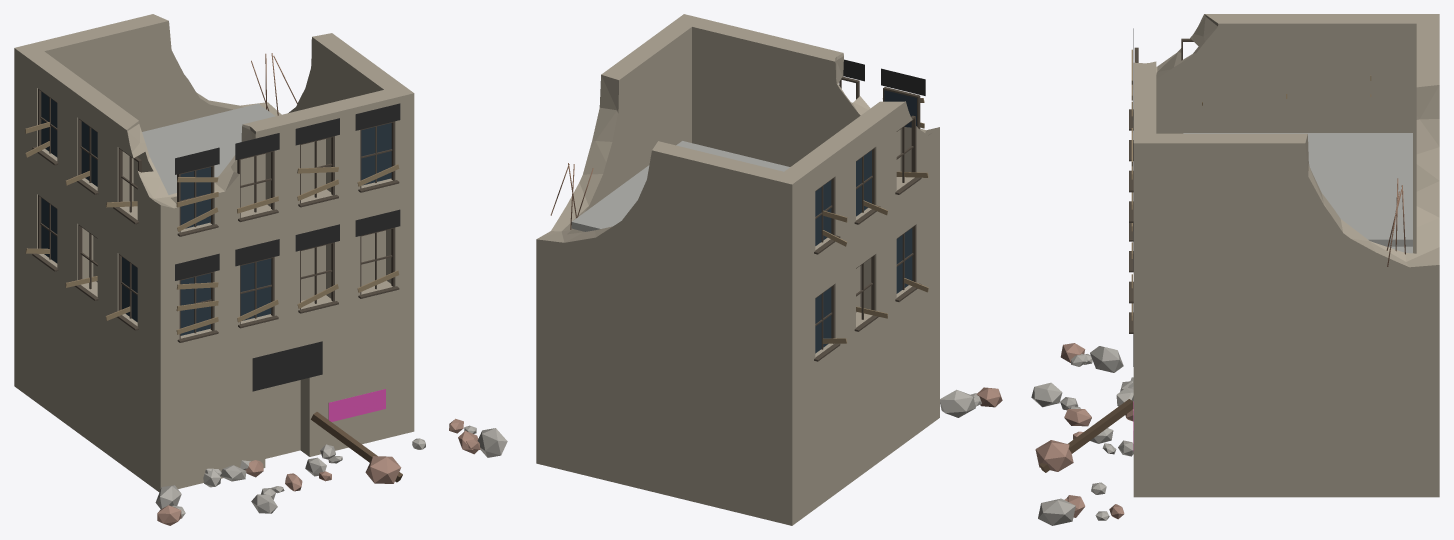
File: bld_ruin.glb
3 renders of one model, left to right at view 1: azimuth 30°, elevation 25°; view 2: azimuth 150°, elevation 25°; view 3: azimuth 270°, elevation 25°, orthographic. The views are drawn at different scales.
Visible parts, largest first — view 1: wall, floor_slab.001, soot_door, glass.002, glass.003, glass, glass.001, graffiti, beam, glass.005, glass.006, soot.007 (+11 smaller); view 2: wall, floor_slab.001, glass.004, glass.006, soot.001, glass.007, rubble.008, glass.005; view 3: wall, floor_slab.001, beam, rubble.009, rubble.023, rubble.008, rubble.020.
Part boxes in pixels (left/top/right/bottom): wall: left=14, top=14, right=414, bottom=492; floor_slab.001: left=142, top=103, right=275, bottom=194; soot_door: left=252, top=341, right=322, bottom=391; glass.002: left=240, top=258, right=271, bottom=320; glass.003: left=361, top=123, right=391, bottom=185; glass: left=180, top=273, right=210, bottom=335; glass.001: left=180, top=167, right=210, bottom=228; graffiti: left=328, top=389, right=385, bottom=421; beam: left=311, top=412, right=402, bottom=482; glass.005: left=81, top=121, right=97, bottom=186; glass.006: left=41, top=198, right=57, bottom=263; soot.007: left=355, top=103, right=400, bottom=130; wall: left=536, top=14, right=939, bottom=525; floor_slab.001: left=571, top=141, right=789, bottom=231; glass.004: left=896, top=228, right=912, bottom=293; glass.006: left=815, top=287, right=831, bottom=353; soot.001: left=881, top=68, right=925, bottom=95; glass.007: left=815, top=180, right=831, bottom=245; rubble.008: left=940, top=389, right=975, bottom=417; glass.005: left=856, top=150, right=871, bottom=216; wall: left=1133, top=14, right=1439, bottom=497; floor_slab.001: left=1183, top=133, right=1412, bottom=246; beam: left=1039, top=399, right=1133, bottom=472; rubble.009: left=1035, top=440, right=1073, bottom=471; rubble.023: left=1038, top=498, right=1075, bottom=525; rubble.008: left=1090, top=346, right=1123, bottom=372; rubble.020: left=1031, top=382, right=1062, bottom=407.
Size of the model in its own units: 10.61 by 10.44 by 10.67.
